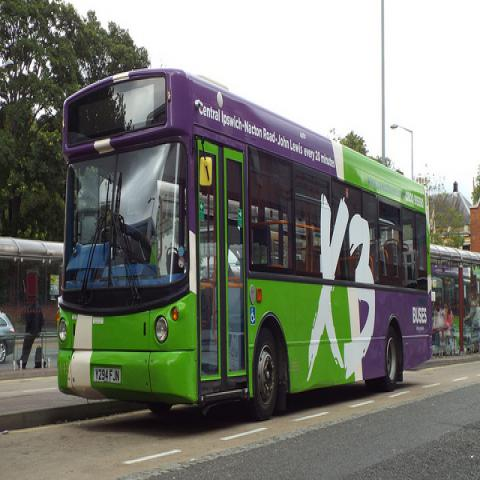bus: (57, 68, 432, 416)
car: (0, 312, 15, 365)
